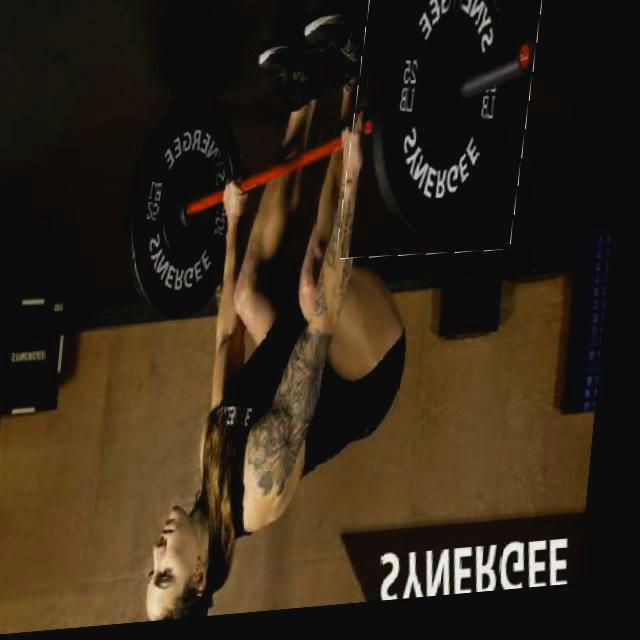barbell: (345, 1, 545, 271)
